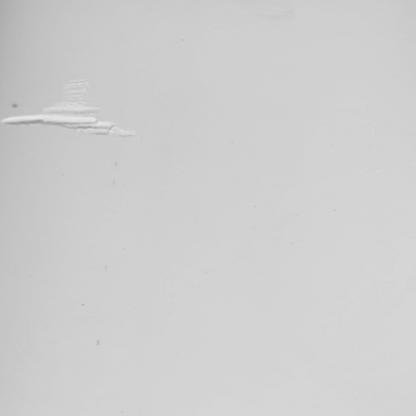sunshang: (7, 76, 131, 139)
